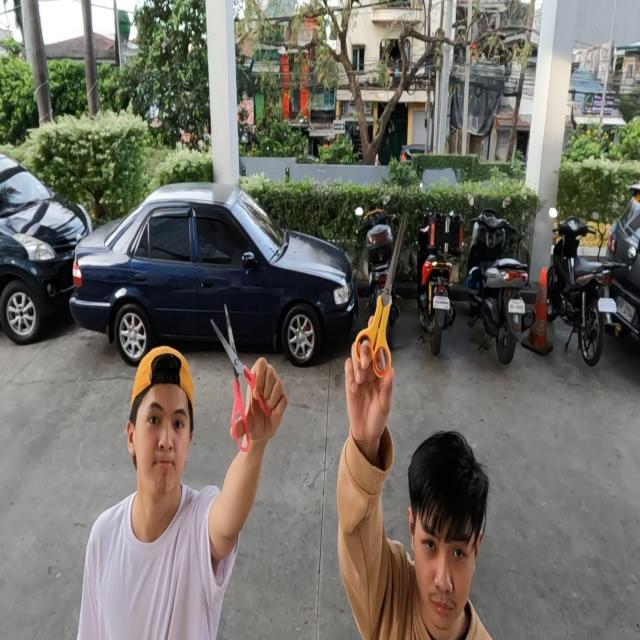scissor: (210, 303, 272, 453), (355, 212, 407, 378)
